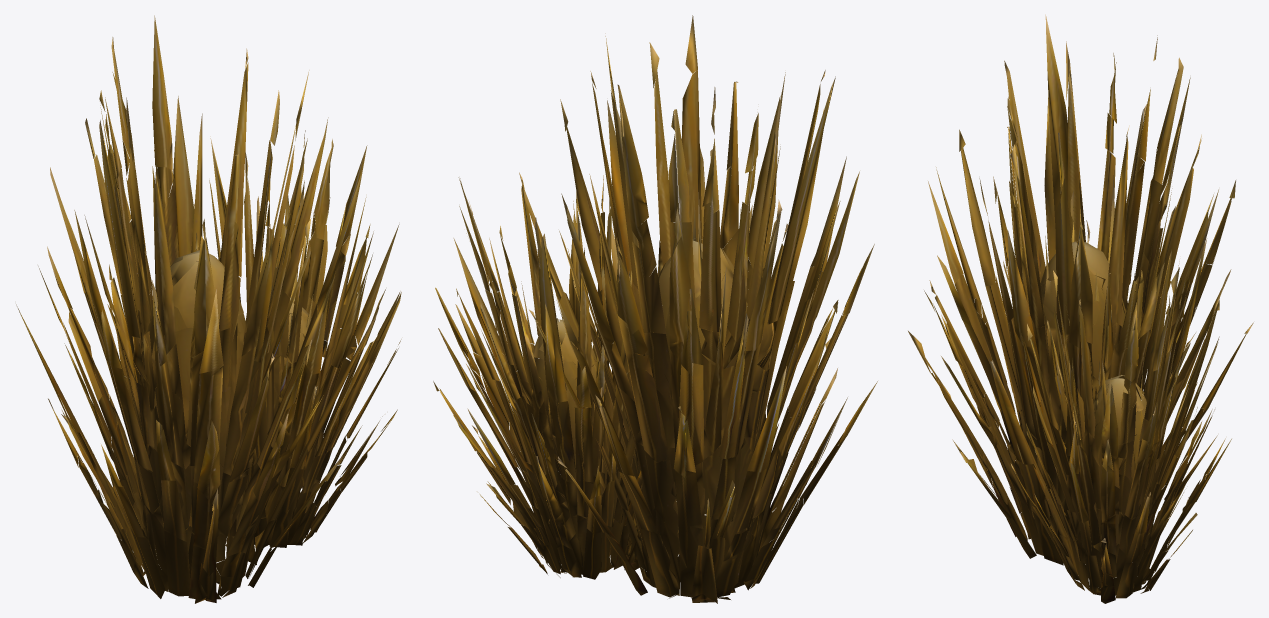
The model's file is desert_grass_blades_pair.glb.
3 renders of one model, left to right at view 1: azimuth 30°, elevation 25°; view 2: azimuth 150°, elevation 25°; view 3: azimuth 270°, elevation 25°, orthographic. The views are drawn at different scales.
Parts seen in each view (by area): view 1: desert_grass_blades_pair; view 2: desert_grass_blades_pair; view 3: desert_grass_blades_pair.
Part boxes in pixels (box(x1,y1,x2,y2)): desert_grass_blades_pair: box(16, 15, 401, 603); desert_grass_blades_pair: box(433, 15, 877, 603); desert_grass_blades_pair: box(908, 14, 1253, 603).
Size of the model in its own units: 0.7384 by 1.01 by 0.6482.
Materials: 1 (1 with a texture image).
